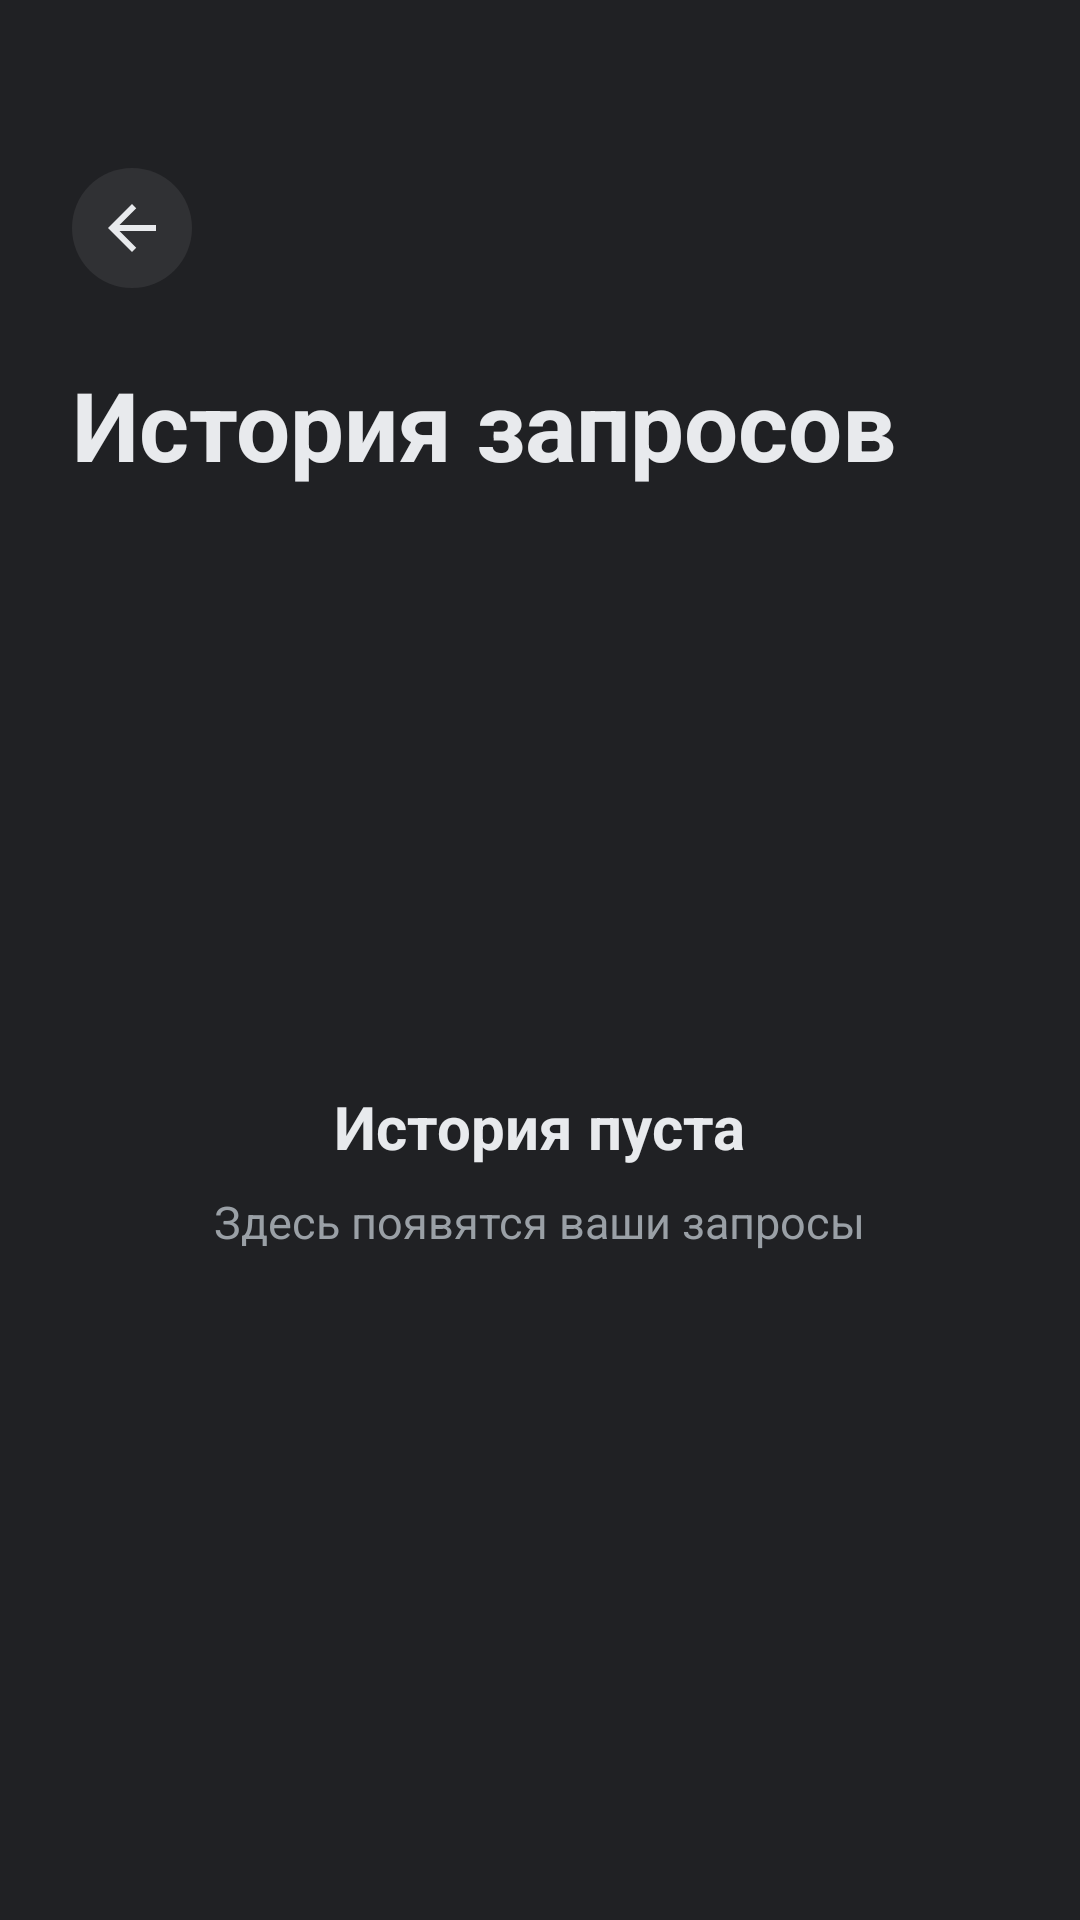

Icon bounding boxes for this 1080w x 1920h phone screenshot, format bbox=(x1, y1, x2, y2):
back: bbox=(72, 168, 192, 288)
